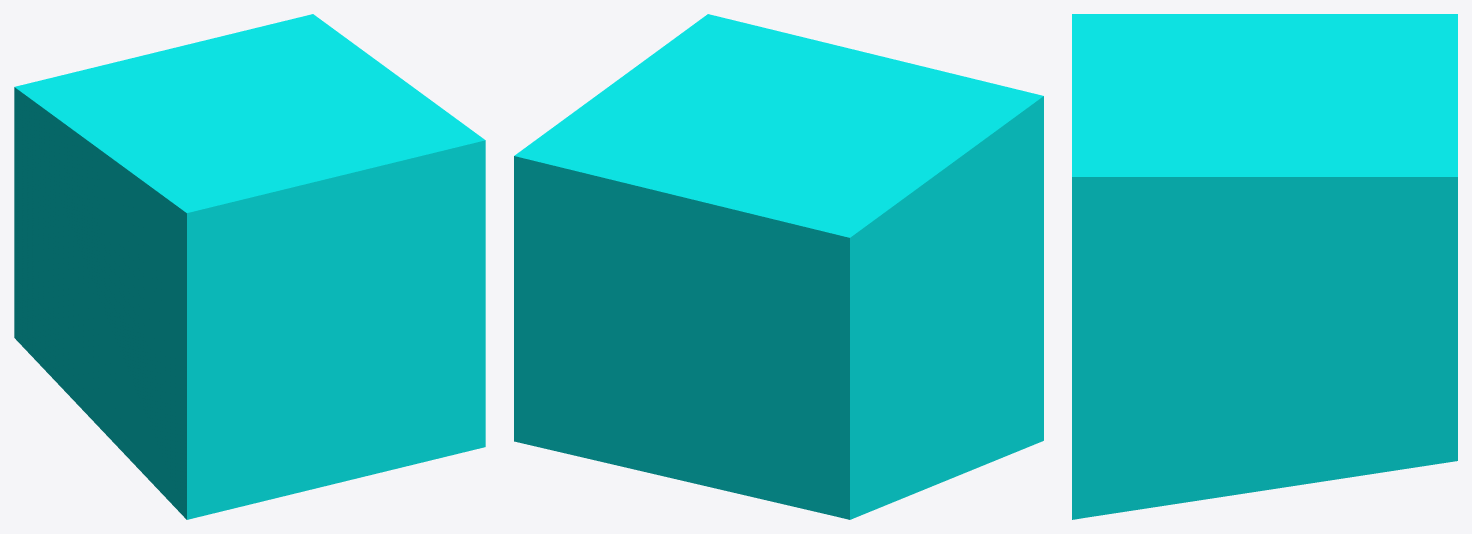
Rendered from figura04.fbx.
3 views of the same model, side by side, from view 1: azimuth 30°, elevation 25°; view 2: azimuth 150°, elevation 25°; view 3: azimuth 270°, elevation 25° (orthographic). The views are drawn at different scales.
Visible parts, largest first — view 1: Difference2; view 2: Difference2; view 3: Difference2.
Part boxes in pixels (<box>): Difference2: <box>14,14,485,519</box>; Difference2: <box>514,14,1043,519</box>; Difference2: <box>1072,14,1457,519</box>.
Size of the model in its own units: 7071 by 6936 by 7071.
